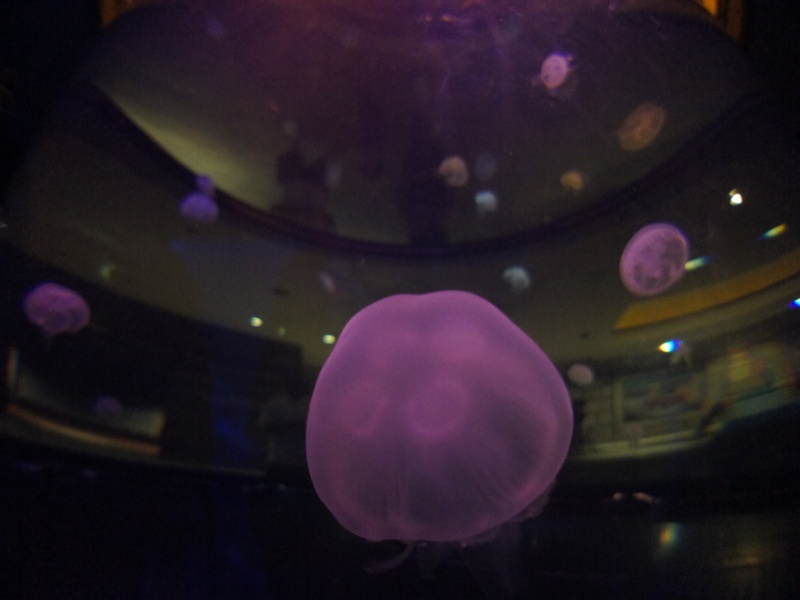Jellyfish: (305, 288, 573, 541), (620, 226, 689, 297), (23, 285, 90, 338)
